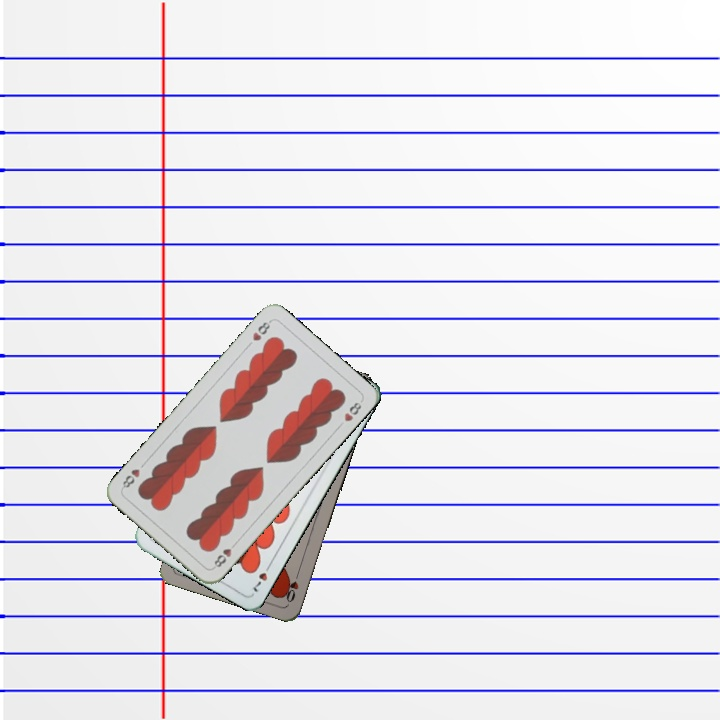H7: (249, 558, 275, 595)
H8: (209, 538, 240, 571), (248, 316, 274, 343)
HO: (282, 566, 303, 605)
